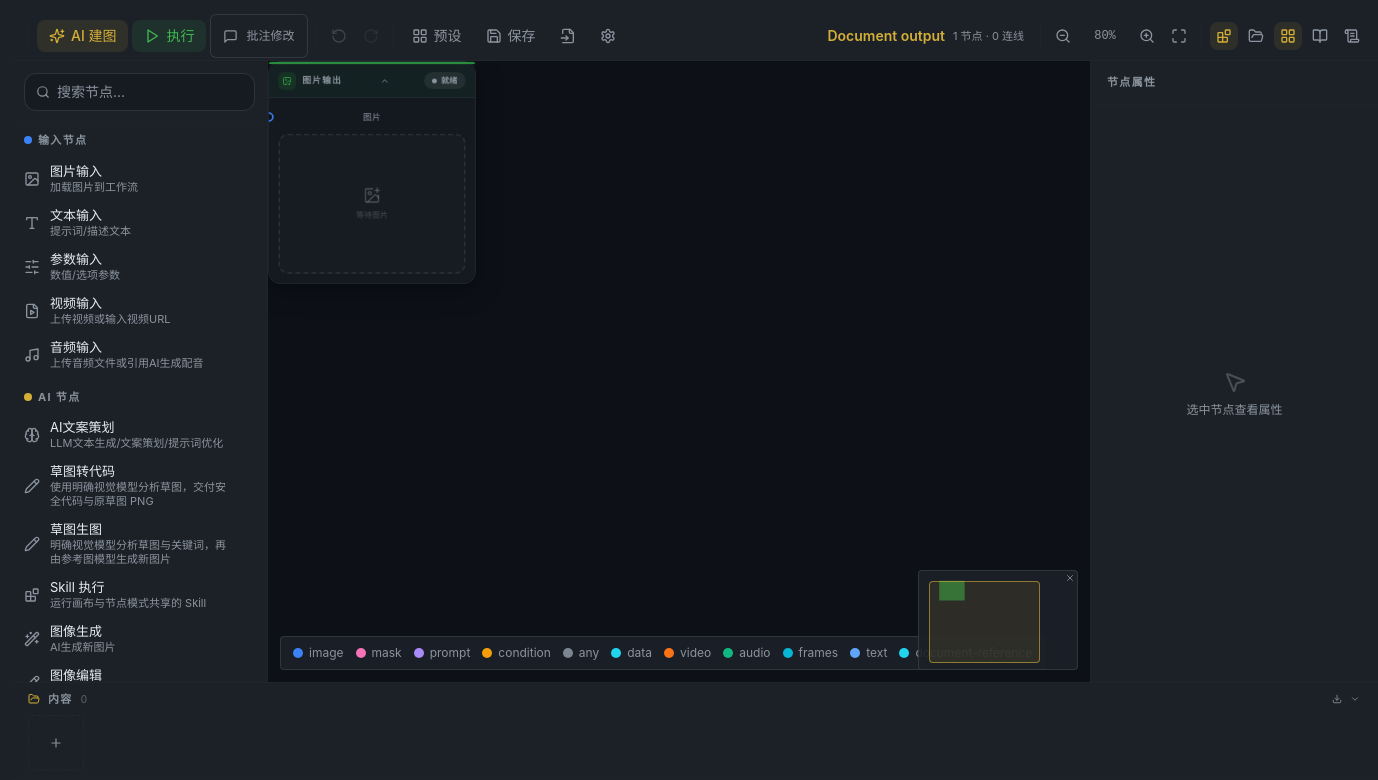
NodeEditor document canvas inputs › preserves completed output persistence for document mode true
This screenshot has width=1378, height=780.
Click the button with aria-label "执行工作流" at x=170, y=36, box x1=132 y1=20 x2=206 y2=52
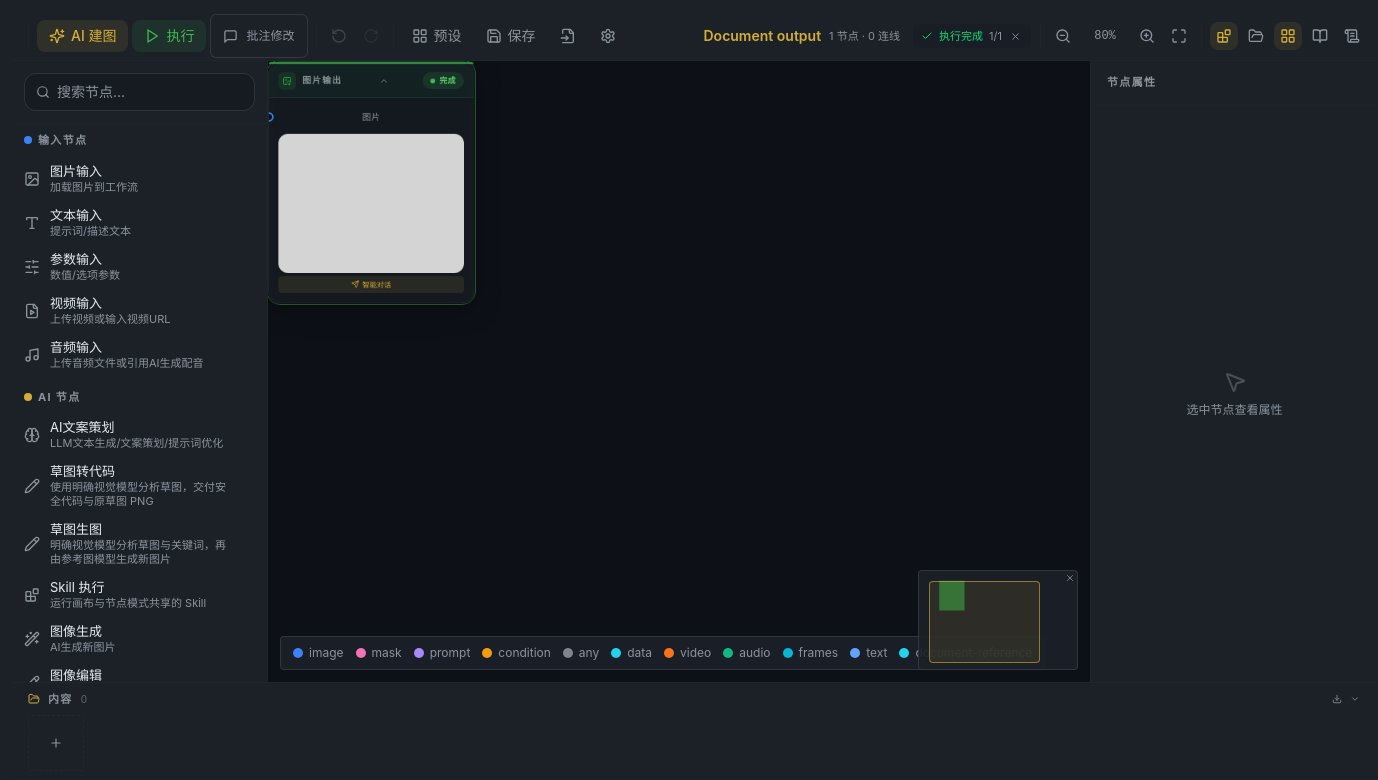
Now the button with aria-label "发送到智能对话" is shown, box x1=278 y1=276 x2=464 y2=293
